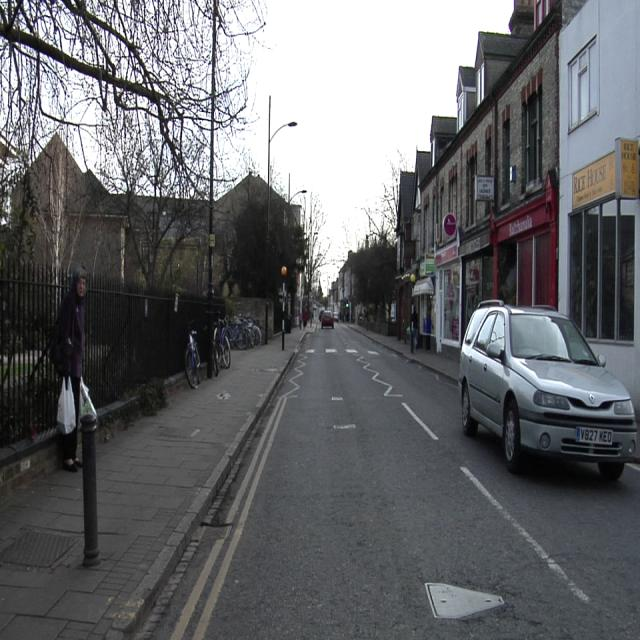Building: (396, 0, 640, 411), (30, 135, 129, 279)
Car: (459, 300, 636, 479), (320, 310, 334, 328)
Road: (145, 323, 640, 638)
Tree: (0, 0, 212, 196), (96, 113, 208, 291), (350, 163, 401, 319), (216, 0, 264, 132), (229, 198, 268, 296), (269, 197, 305, 297)
person: (54, 267, 88, 472)
